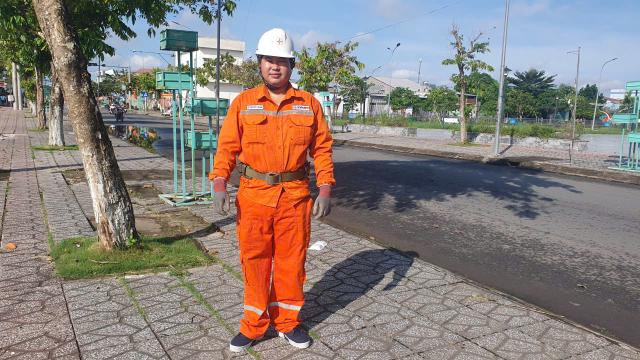gloves: (200, 180, 238, 221), (311, 184, 336, 220)
harness: (230, 153, 318, 182)
helmet: (246, 16, 306, 71)
shoes: (223, 314, 272, 358), (264, 316, 310, 347)
